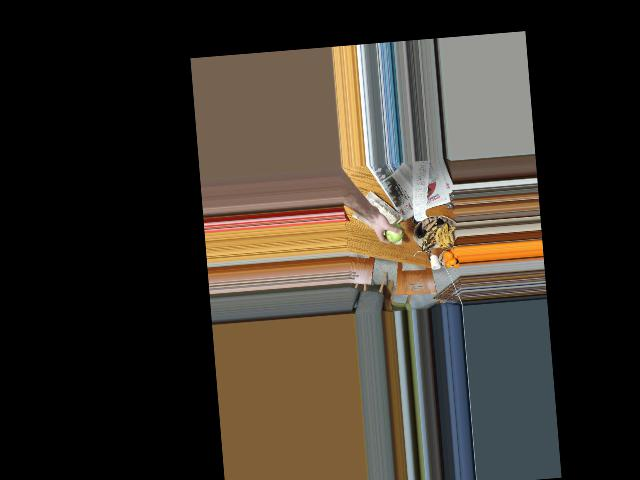apple: (381, 218, 404, 245)
